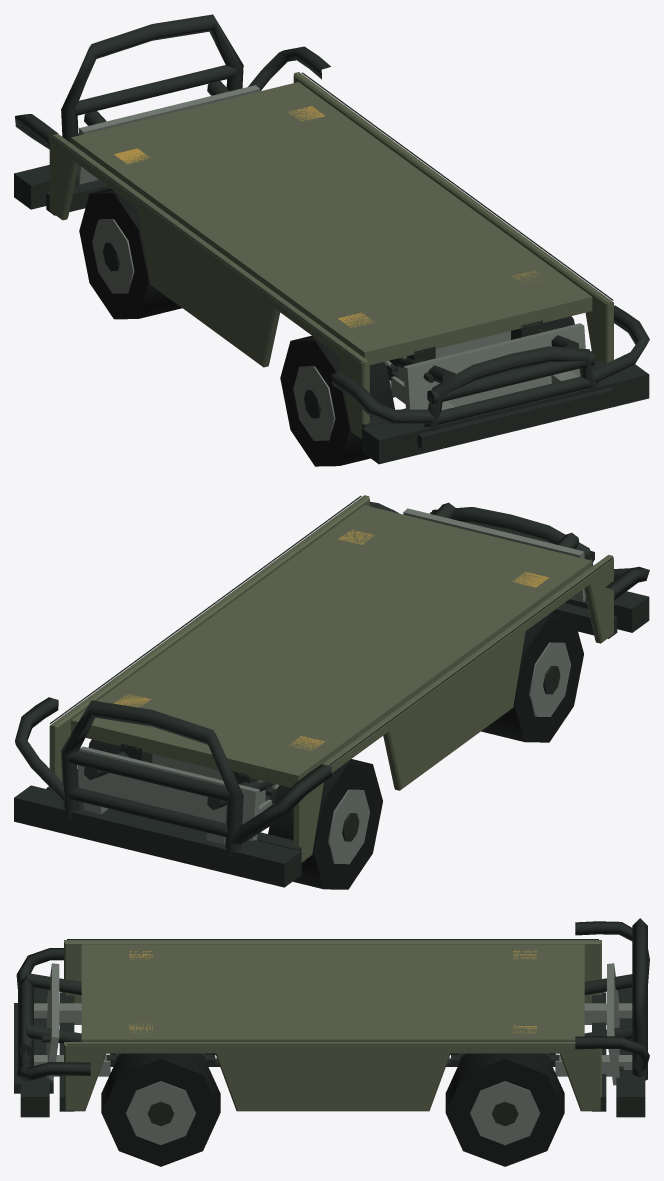
3 renders of one model, top to bottom at view 1: azimuth 30°, elevation 25°; view 2: azimuth 150°, elevation 25°; view 3: azimuth 270°, elevation 25°, orthographic. The views are drawn at different scales.
Parts seen in each view (by area): view 1: C01_surface_02, C01_surface_00, C01_surface_01, C01_surface_04, C01_surface_07, C01_surface_08, C01_surface_05, C01_surface_03; view 2: C01_surface_02, C01_surface_00, C01_surface_01, C01_surface_07, C01_surface_04, C01_surface_08, C01_surface_05, C01_surface_03; view 3: C01_surface_02, C01_surface_00, C01_surface_13, C01_surface_10, C01_surface_01, C01_surface_11, C01_surface_14, C01_surface_12, C01_surface_15, C01_surface_03.
Boxes of the visible parts, x1,y1,x2,y2 form: C01_surface_02: (49,72,613,438); C01_surface_00: (14,14,649,464); C01_surface_01: (77,85,585,410); C01_surface_04: (280,335,394,466); C01_surface_07: (79,188,182,319); C01_surface_08: (92,219,134,293); C01_surface_05: (293,366,335,440); C01_surface_03: (114,106,541,327); C01_surface_02: (49,495,613,861); C01_surface_00: (14,495,649,887); C01_surface_01: (78,508,585,844); C01_surface_07: (268,759,382,889); C01_surface_04: (481,612,583,742); C01_surface_08: (328,789,369,864); C01_surface_05: (529,642,570,716); C01_surface_03: (114,529,549,750); C01_surface_02: (64,940,601,1111); C01_surface_00: (14,918,649,1117); C01_surface_13: (445,1053,564,1166); C01_surface_10: (101,1053,220,1166); C01_surface_01: (34,963,632,1085); C01_surface_11: (126,1081,195,1144); C01_surface_14: (470,1081,540,1145); C01_surface_12: (147,1101,174,1126); C01_surface_15: (492,1101,518,1126); C01_surface_03: (129,951,536,1032).
Size of the model in its own units: 2.13 by 1.49 by 4.8.
